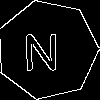N: (23, 24, 60, 71)
